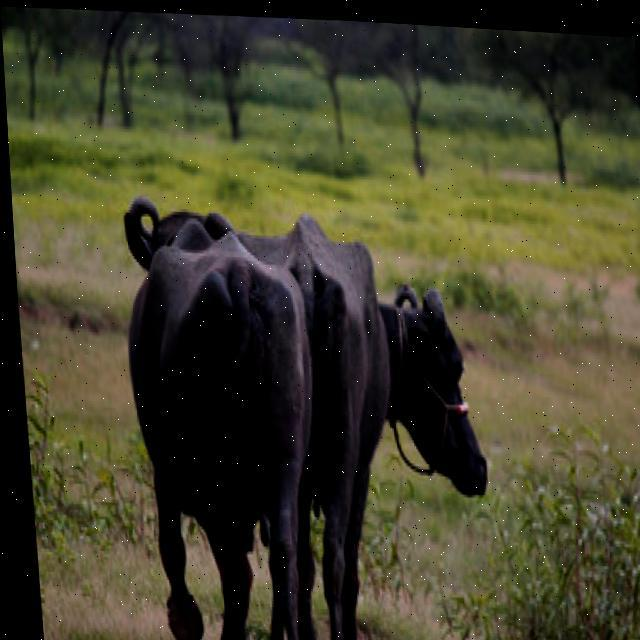Buffalo: (108, 179, 503, 640)
